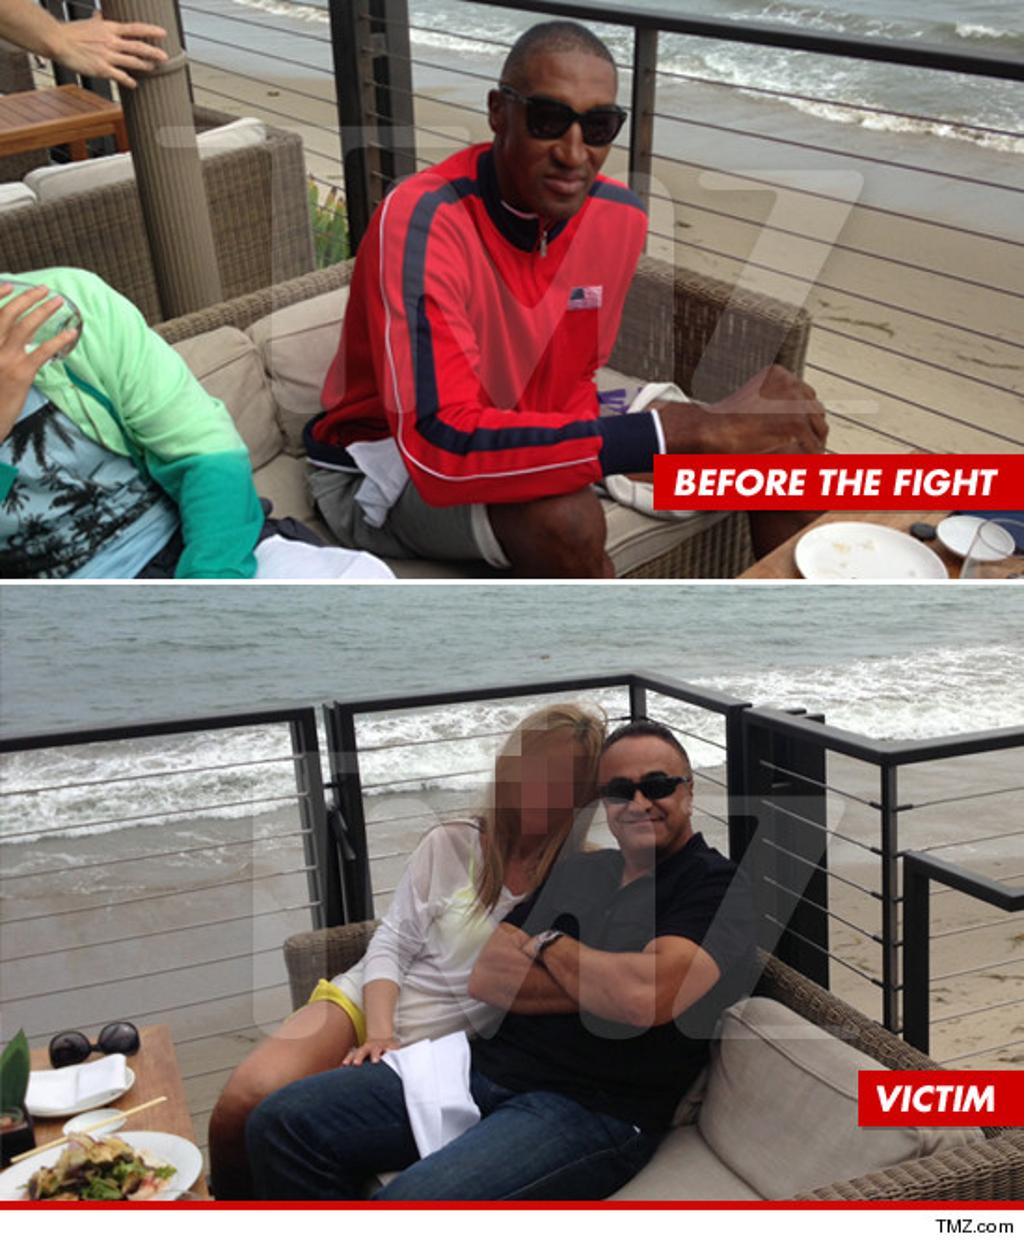face: (510, 44, 620, 217), (602, 741, 687, 848)
